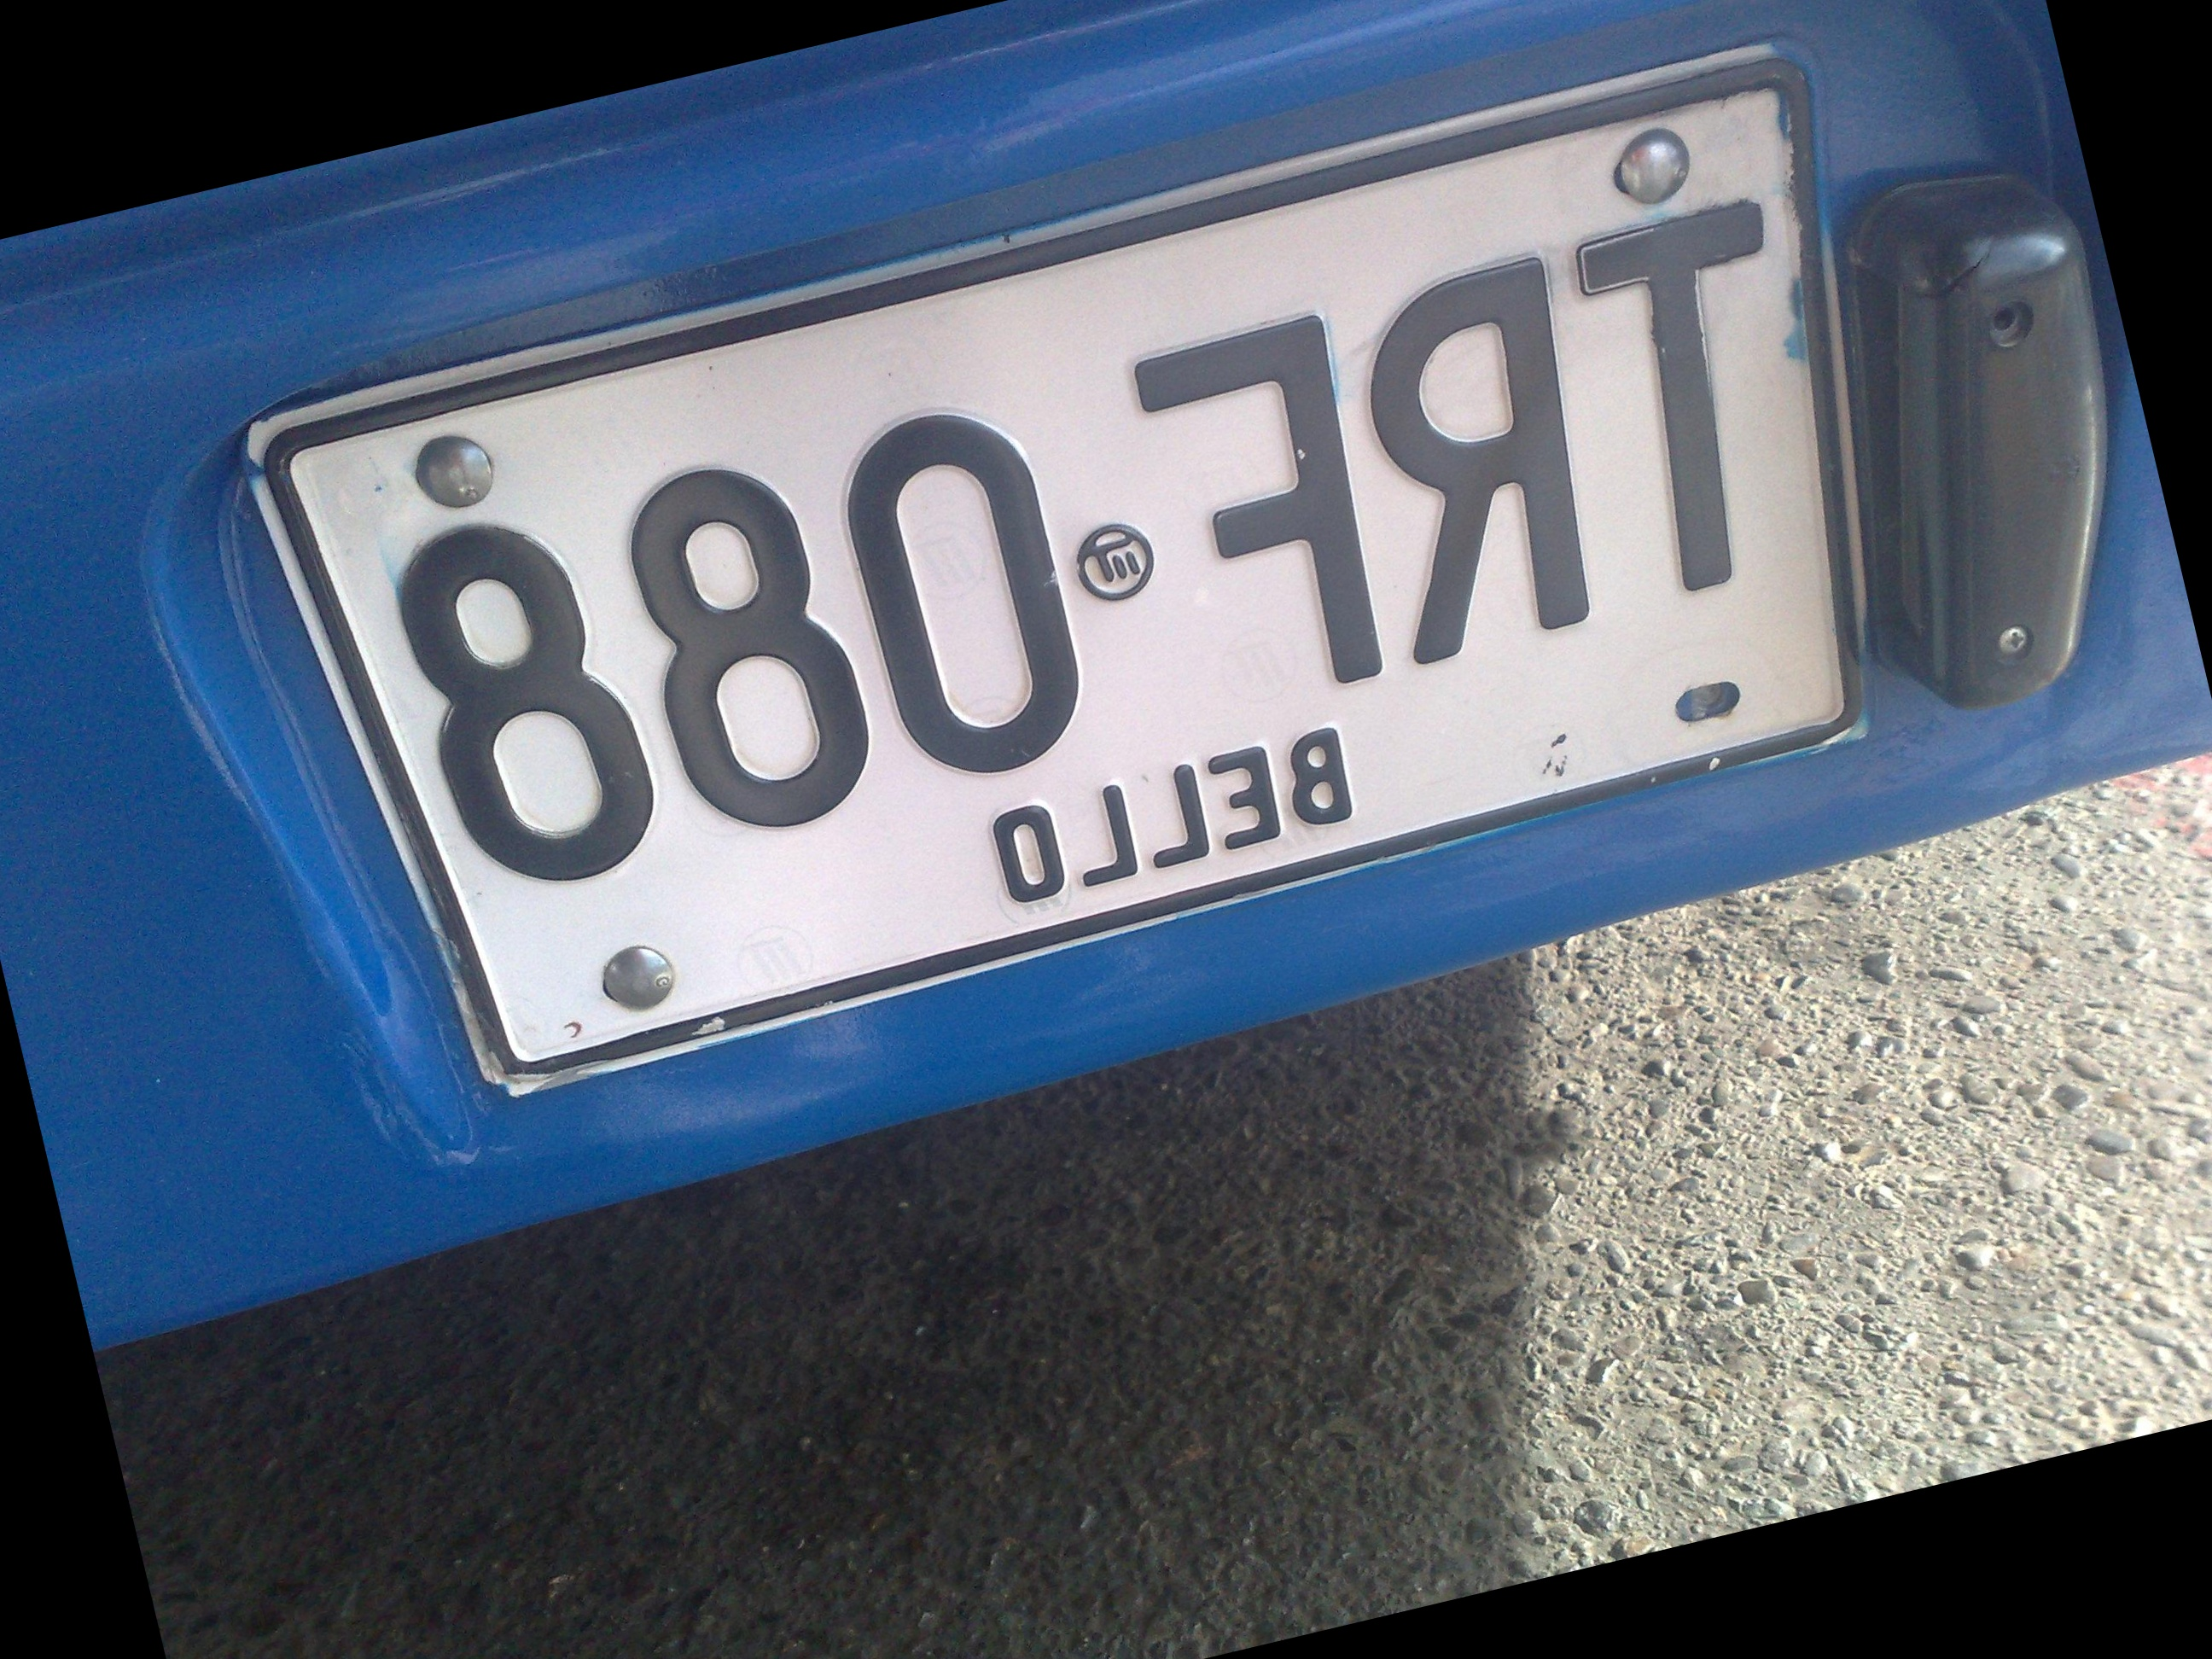placas: (217, 0, 2001, 1143)
